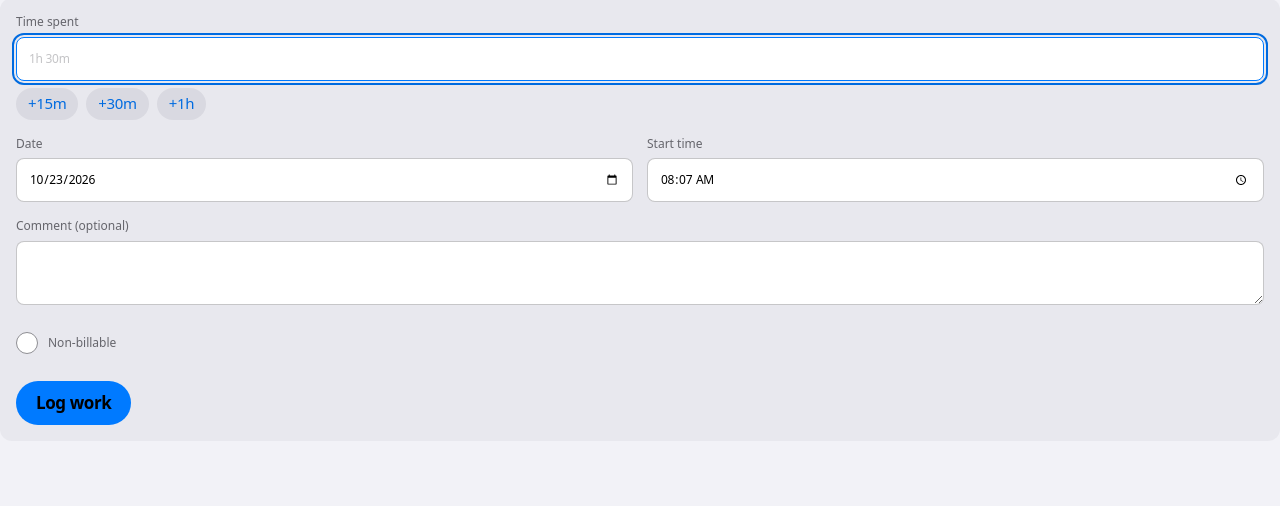
Test: when Jira refuses the worklog › shows why and keeps what was typed
Type "30m" into the field with placeholder "1h 30m" at (640, 58), box top-left (16, 36), bottom-right (1264, 80)
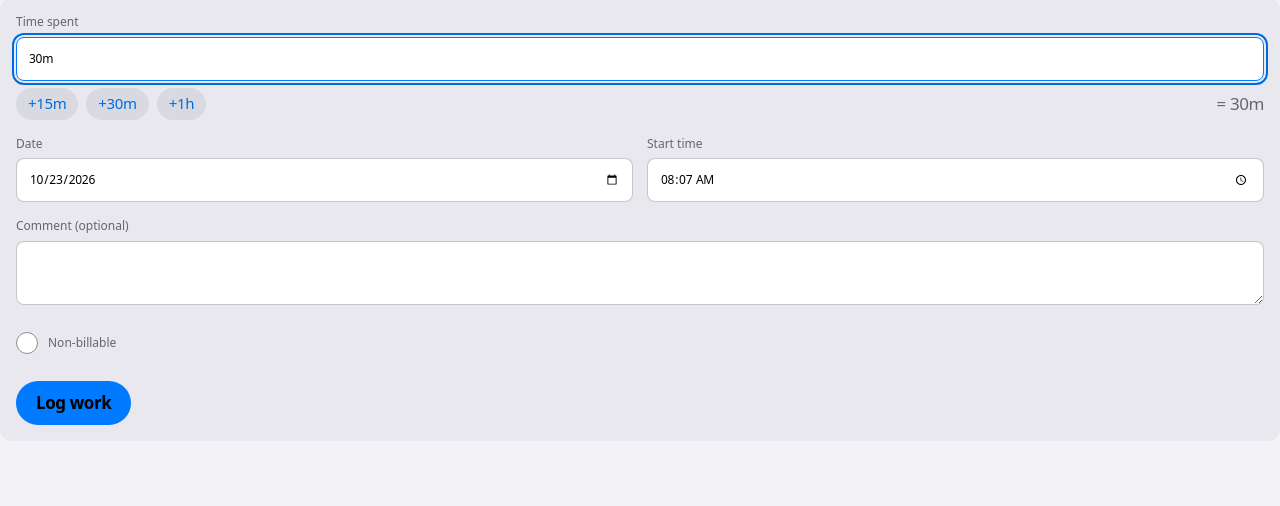
Click the button "Log work" at (74, 403), box top-left (16, 381), bottom-right (131, 425)
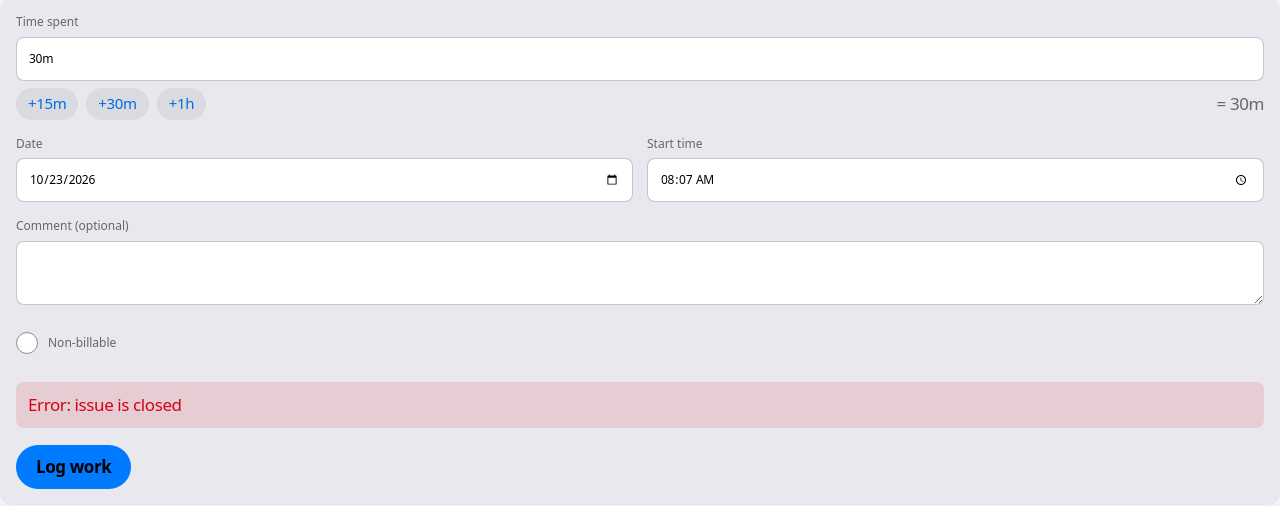
Expected: the button "Log work" is enabled, top-left (16, 445), bottom-right (131, 489)
Expected: the text "Error: issue is closed" is shown, top-left (16, 382), bottom-right (1264, 428)
